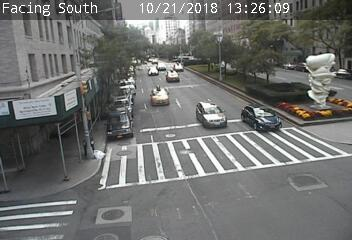car: (241, 105, 281, 132), (196, 101, 225, 128), (151, 87, 168, 106), (167, 70, 178, 82), (147, 67, 157, 77), (173, 63, 182, 71), (157, 63, 165, 71)
